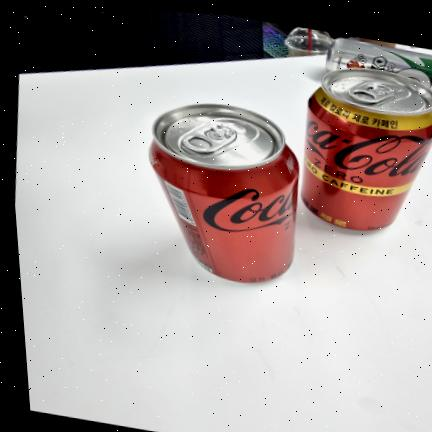can_coke_decaf: (301, 71, 432, 233)
can_coke_zero: (147, 103, 300, 285)
